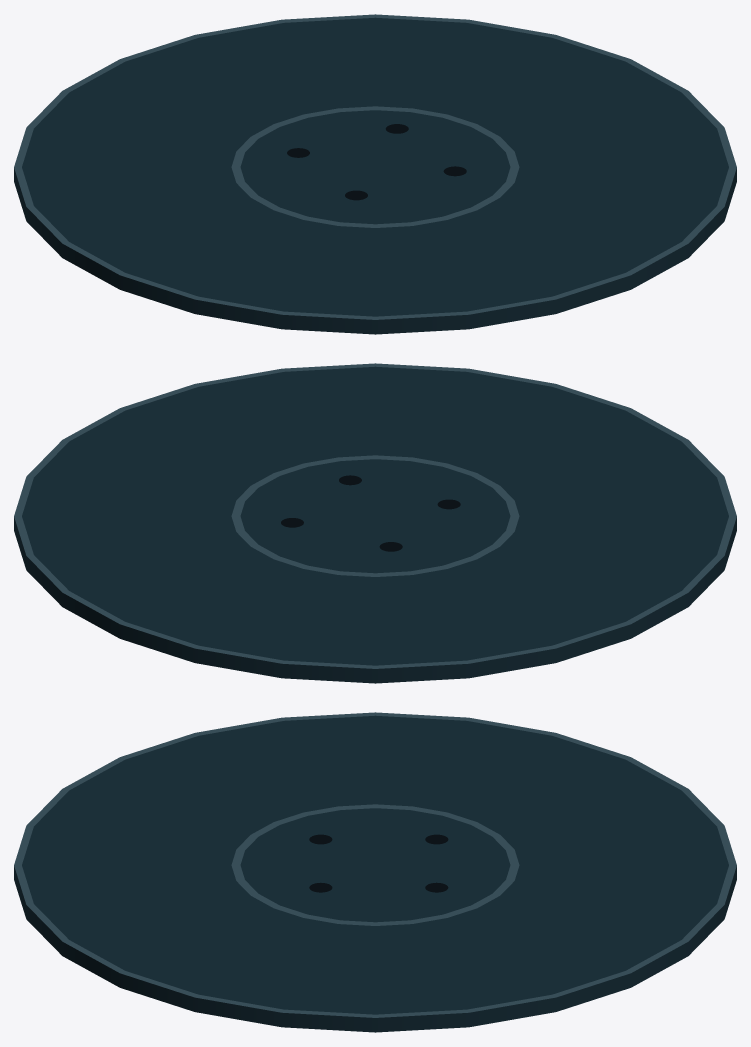
File: Alcantarilla.FBX
3 renders of one model, top to bottom at view 1: azimuth 30°, elevation 25°; view 2: azimuth 150°, elevation 25°; view 3: azimuth 270°, elevation 25°, orthographic.
Parts seen in each view (by area): view 1: Cylinder001; view 2: Cylinder001; view 3: Cylinder001.
Boxes of the visible parts, x1,y1,x2,y2 form: Cylinder001: (14,14,736,334); Cylinder001: (14,363,736,683); Cylinder001: (14,712,736,1032).
Bounding box in the file's own units: 240 × 240 × 6.46.
